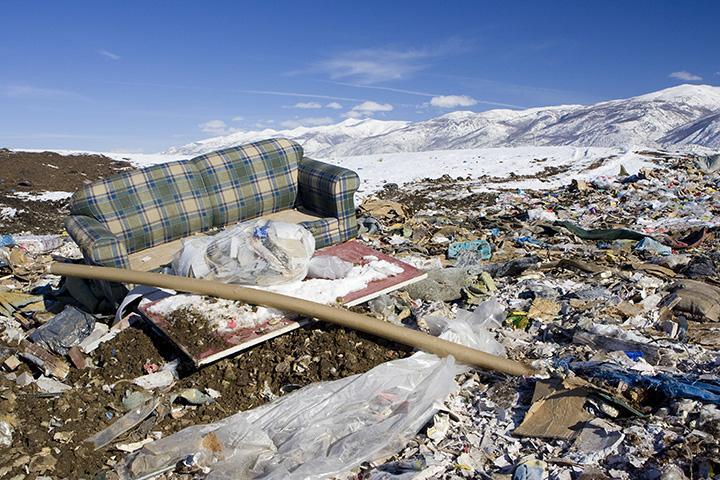garbage: (370, 161, 720, 480)
